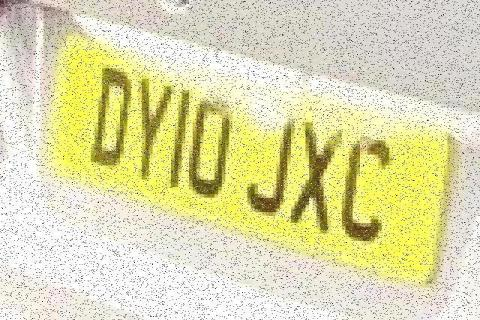LicensePlate: (24, 6, 459, 300)
